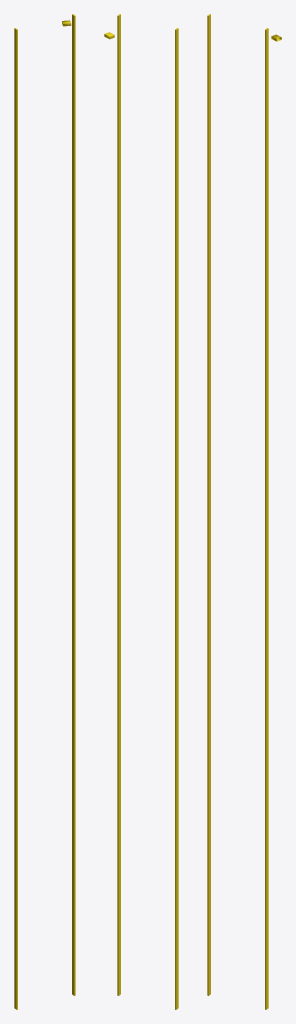
Rendered from LADDER PIPE.fbx.
3 renders of one model, left to right at view 1: azimuth 30°, elevation 25°; view 2: azimuth 150°, elevation 25°; view 3: azimuth 330°, elevation 25°, orthographic.
Parts seen in each view (by area): view 1: Ladders side sup.001; view 2: Ladders side sup.001; view 3: Ladders side sup.001.
Boxes of the visible parts, x1=… form: Ladders side sup.001: x1=14, y1=14, x2=75, y2=1009; Ladders side sup.001: x1=117, y1=14, x2=178, y2=1009; Ladders side sup.001: x1=207, y1=14, x2=268, y2=1009.
Bounding box in the file's own units: 61.44 × 903 × 19.76.
